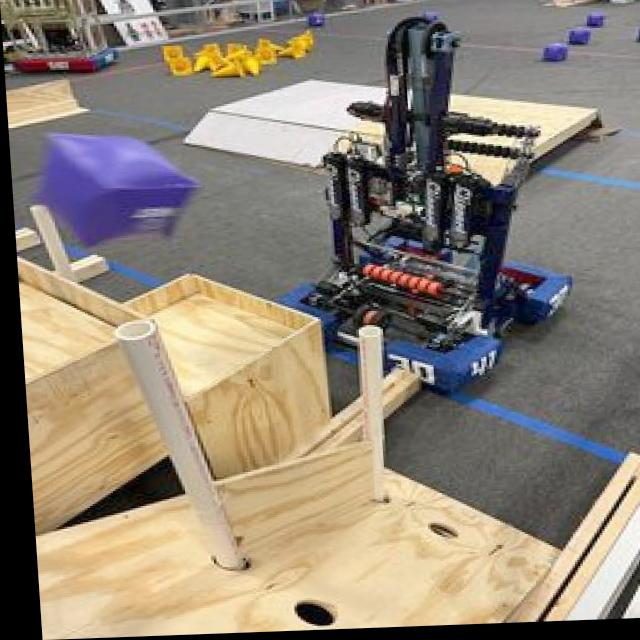robot: (252, 8, 603, 390), (0, 0, 123, 82)
